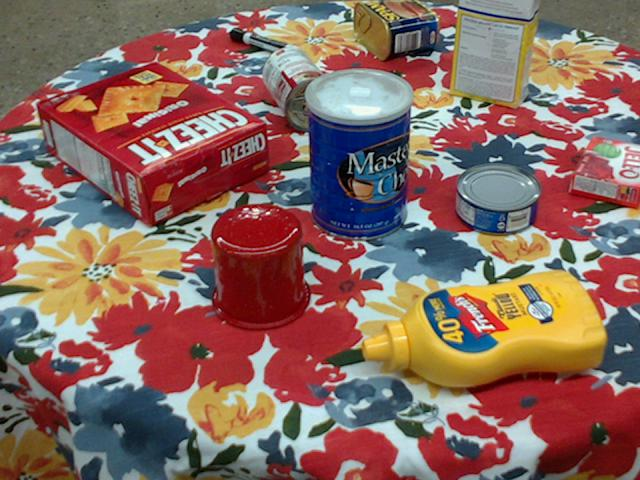cracker_box: (39, 62, 270, 224)
gelatin_box: (569, 137, 639, 209)
large_marker: (231, 26, 301, 58)
master_chef_can: (304, 67, 412, 241)
mug: (209, 202, 311, 330)
mustard_bottle: (363, 267, 608, 386)
potted_meat_can: (354, 0, 440, 58)
sugar_box: (449, 0, 541, 108)
tomato_soup_can: (261, 45, 340, 131)
tuna_fish_can: (456, 164, 542, 235)
